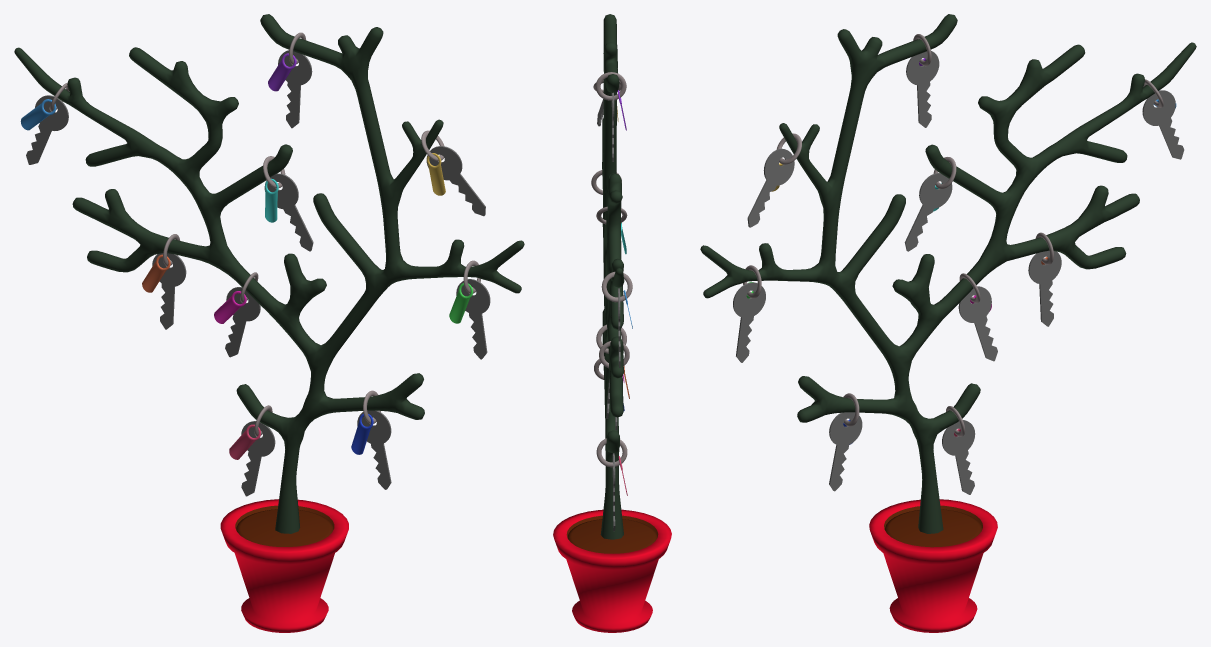
Rendered from AchievementsTree.fbx.
3 renders of one model, left to right at view 1: azimuth 30°, elevation 25°; view 2: azimuth 150°, elevation 25°; view 3: azimuth 270°, elevation 25°, orthographic. The views are drawn at different scales.
Visible parts, largest first — view 1: KeyTree.001, KeyPot.001, KeyYellow.001, KeyMint.001, KeyGreen.001, KeyDarkBlue.001, KeyPurple.001, KeyOrange.001, KeyRed.001, KeyBlue.001, KeyPink.001; view 2: KeyPot.001, KeyTree.001, KeyBlue.001, KeyPurple.001, KeyRed.001, KeyOrange.001, KeyPink.001, KeyMint.001, KeyYellow.001; view 3: KeyTree.001, KeyPot.001, KeyYellow.001, KeyMint.001, KeyGreen.001, KeyDarkBlue.001, KeyPink.001, KeyOrange.001, KeyPurple.001, KeyRed.001, KeyBlue.001.
Boxes of the visible parts, left/top/right/bottom form: KeyTree.001: left=14, top=14, right=524, bottom=533; KeyPot.001: left=220, top=499, right=348, bottom=632; KeyYellow.001: left=421, top=130, right=485, bottom=216; KeyMint.001: left=263, top=156, right=313, bottom=251; KeyGreen.001: left=449, top=260, right=490, bottom=359; KeyDarkBlue.001: left=351, top=390, right=391, bottom=489; KeyPurple.001: left=268, top=32, right=312, bottom=128; KeyOrange.001: left=142, top=234, right=186, bottom=329; KeyRed.001: left=229, top=405, right=275, bottom=496; KeyBlue.001: left=20, top=83, right=68, bottom=164; KeyPink.001: left=214, top=272, right=260, bottom=357; KeyPot.001: left=553, top=509, right=671, bottom=632; KeyTree.001: left=600, top=14, right=624, bottom=539; KeyBlue.001: left=601, top=271, right=632, bottom=367; KeyPurple.001: left=595, top=72, right=626, bottom=161; KeyRed.001: left=596, top=438, right=627, bottom=531; KeyOrange.001: left=599, top=341, right=629, bottom=430; KeyPink.001: left=596, top=324, right=626, bottom=418; KeyMint.001: left=596, top=206, right=627, bottom=254; KeyYellow.001: left=593, top=80, right=621, bottom=126; KeyTree.001: left=700, top=14, right=1196, bottom=533; KeyPot.001: left=869, top=499, right=997, bottom=632; KeyYellow.001: left=747, top=133, right=801, bottom=227; KeyMint.001: left=904, top=157, right=956, bottom=251; KeyGreen.001: left=733, top=265, right=765, bottom=362; KeyDarkBlue.001: left=829, top=393, right=862, bottom=491; KeyPink.001: left=958, top=273, right=997, bottom=361; KeyOrange.001: left=1028, top=232, right=1061, bottom=326; KeyPurple.001: left=906, top=34, right=939, bottom=127; KeyRed.001: left=942, top=406, right=975, bottom=494; KeyBlue.001: left=1142, top=79, right=1184, bottom=159.
Bounding box in the file's own units: 218 × 476 × 351.
